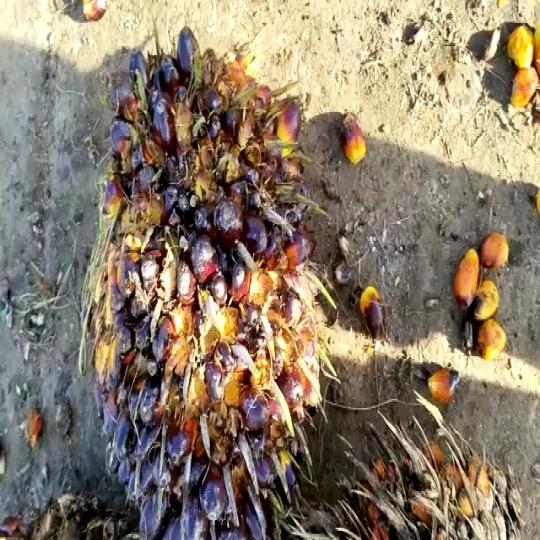masak: (97, 28, 334, 540)
